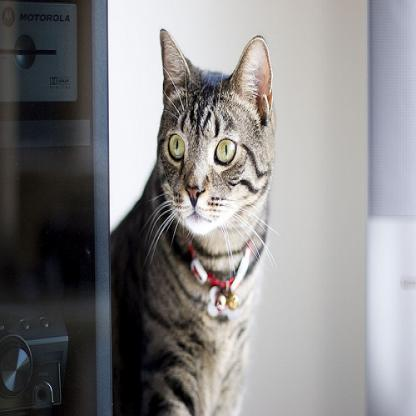cat: (110, 29, 274, 414)
